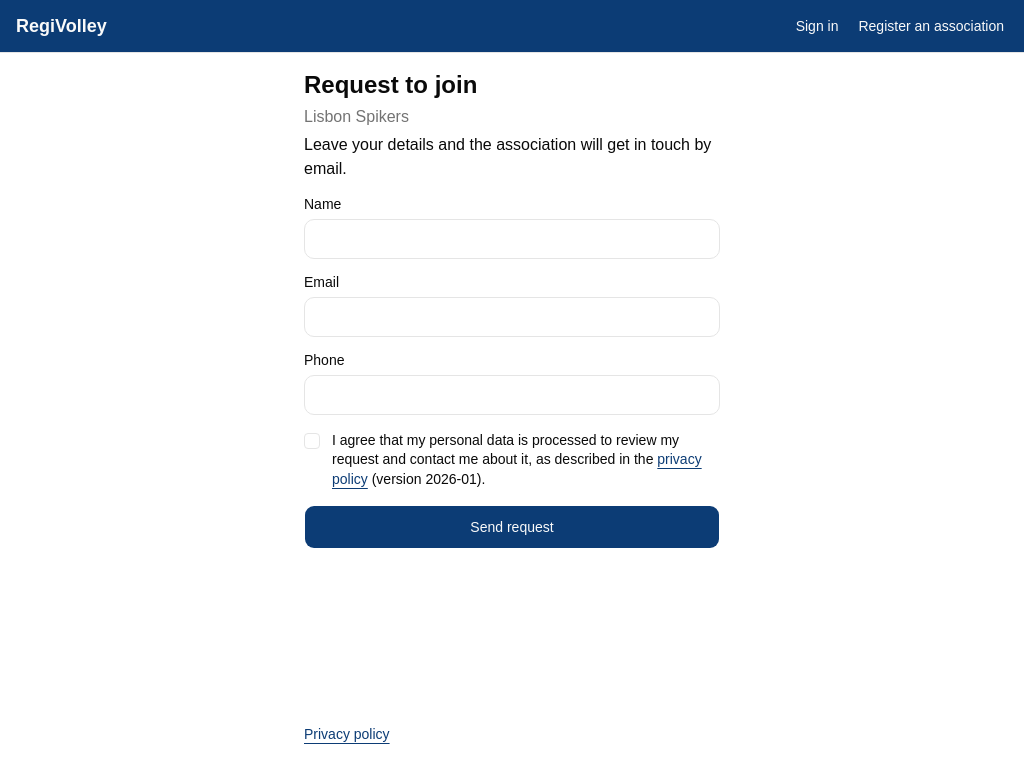
Test: join form › sends the request and shows the confirmation
In the field labelled "Name": [512, 239] box top-left (304, 219), bottom-right (720, 259), type "Rita Silva"
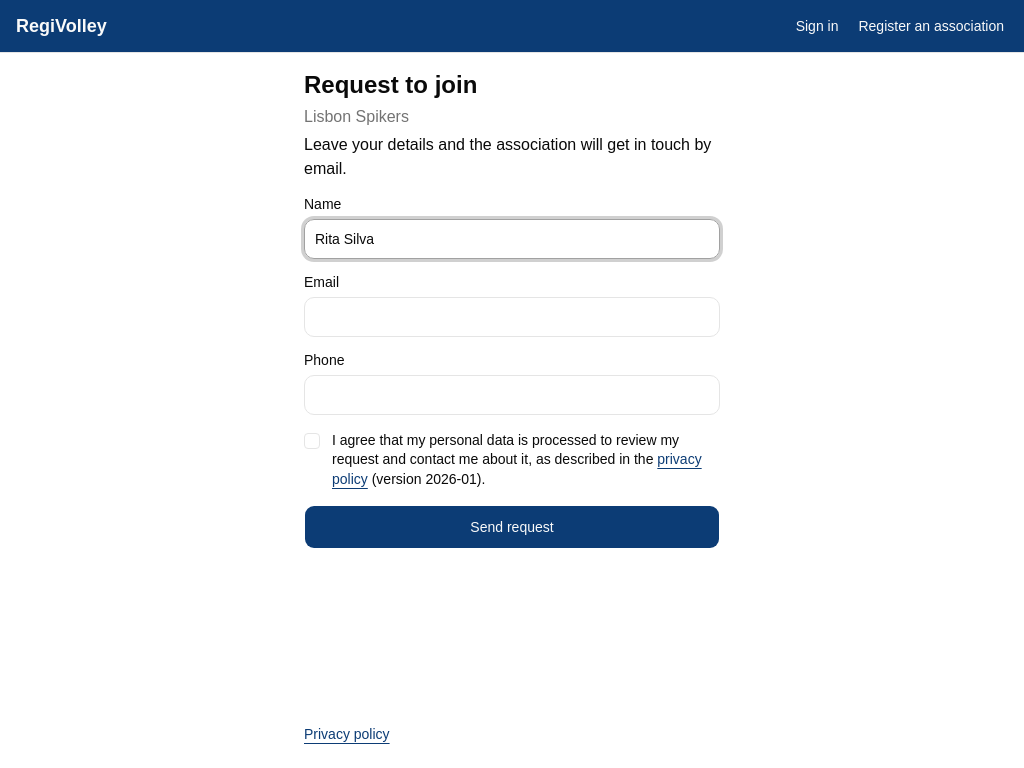
In the field labelled "Email": [512, 317] box top-left (304, 297), bottom-right (720, 337), type "rita@example.com"
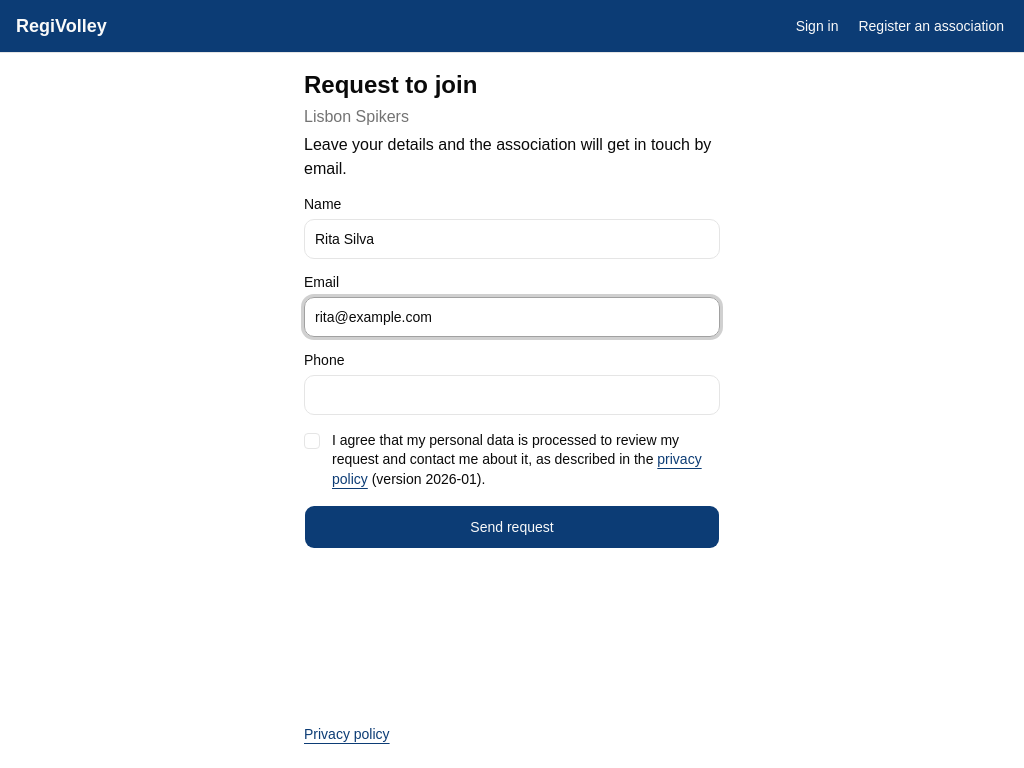
In the field labelled "Phone": [512, 395] box top-left (304, 375), bottom-right (720, 415), type "912345678"
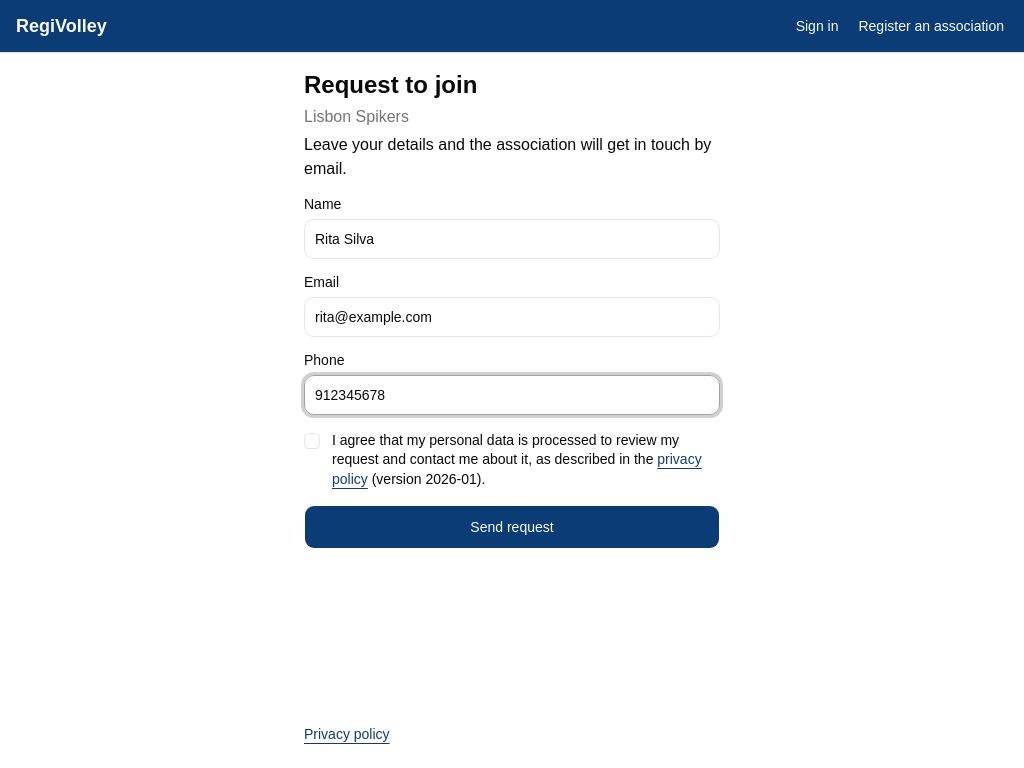
Click the checkbox named "I agree": [312, 441] box top-left (304, 433), bottom-right (320, 449)
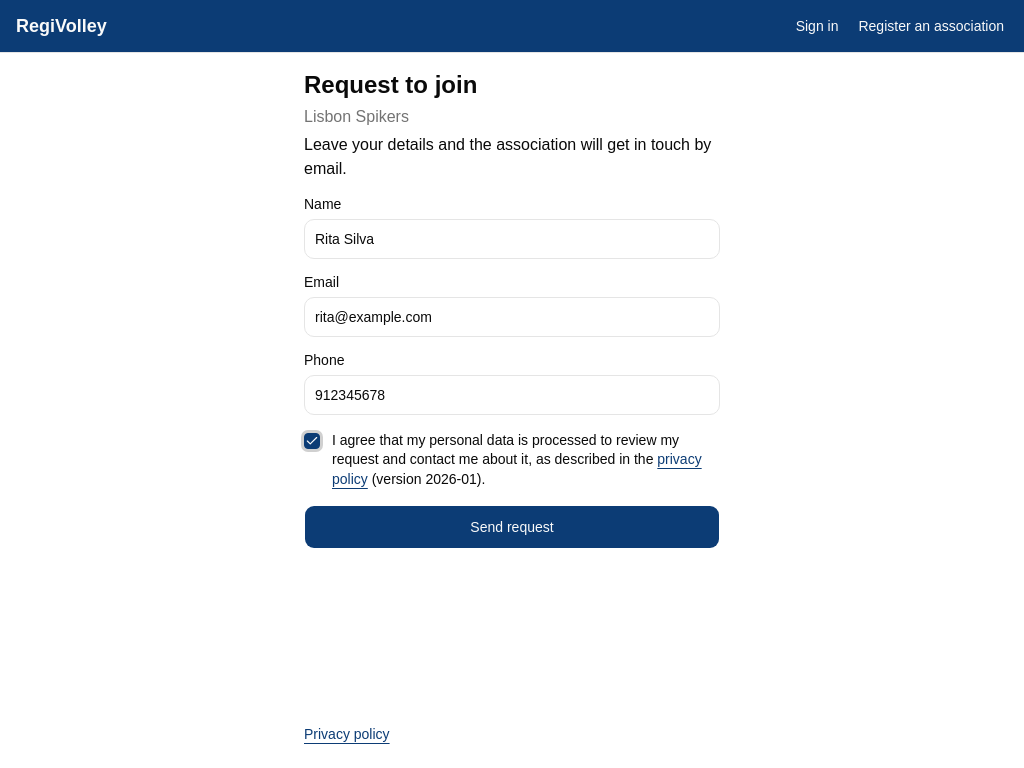
Click the button "Send request": [512, 527] box top-left (304, 505), bottom-right (720, 549)
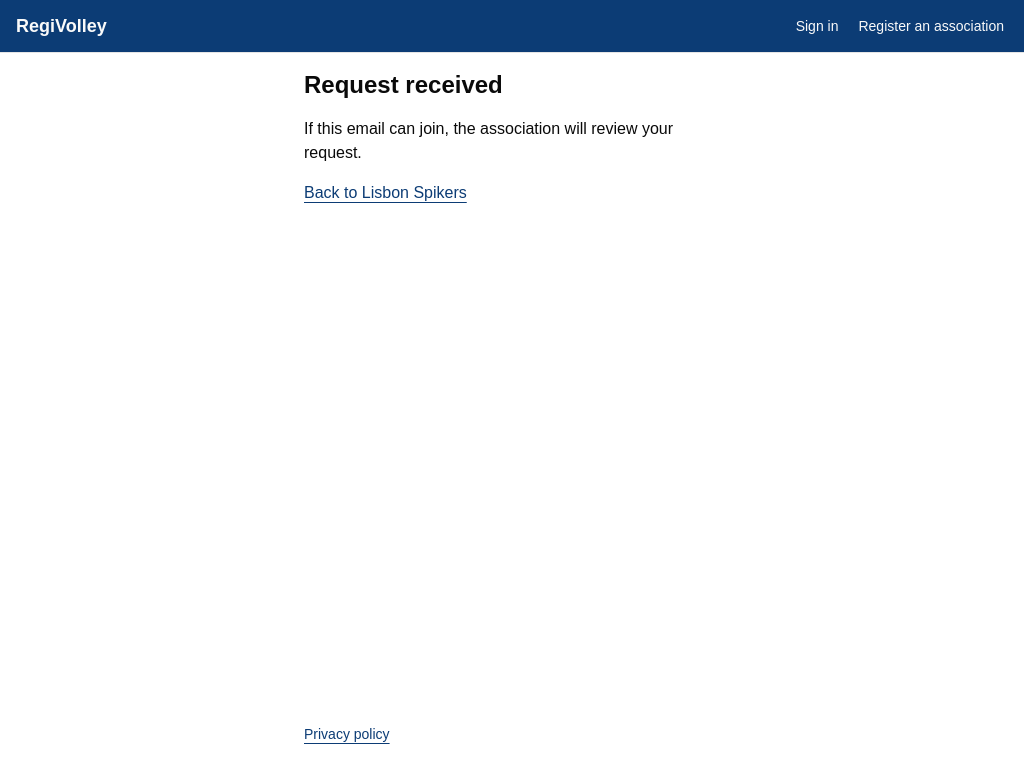
Now the text "If this email can join, the association will review your request." is shown, box top-left (304, 117), bottom-right (720, 165)
